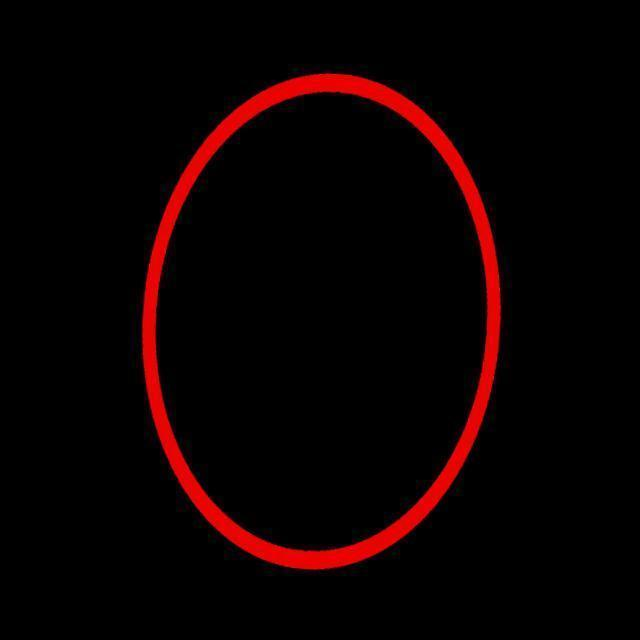redcircle: (134, 66, 502, 574)
